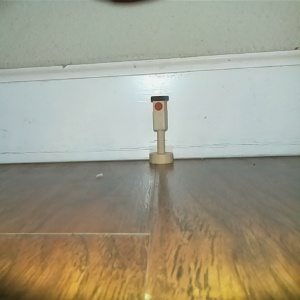traffic light red: (147, 93, 175, 166)
